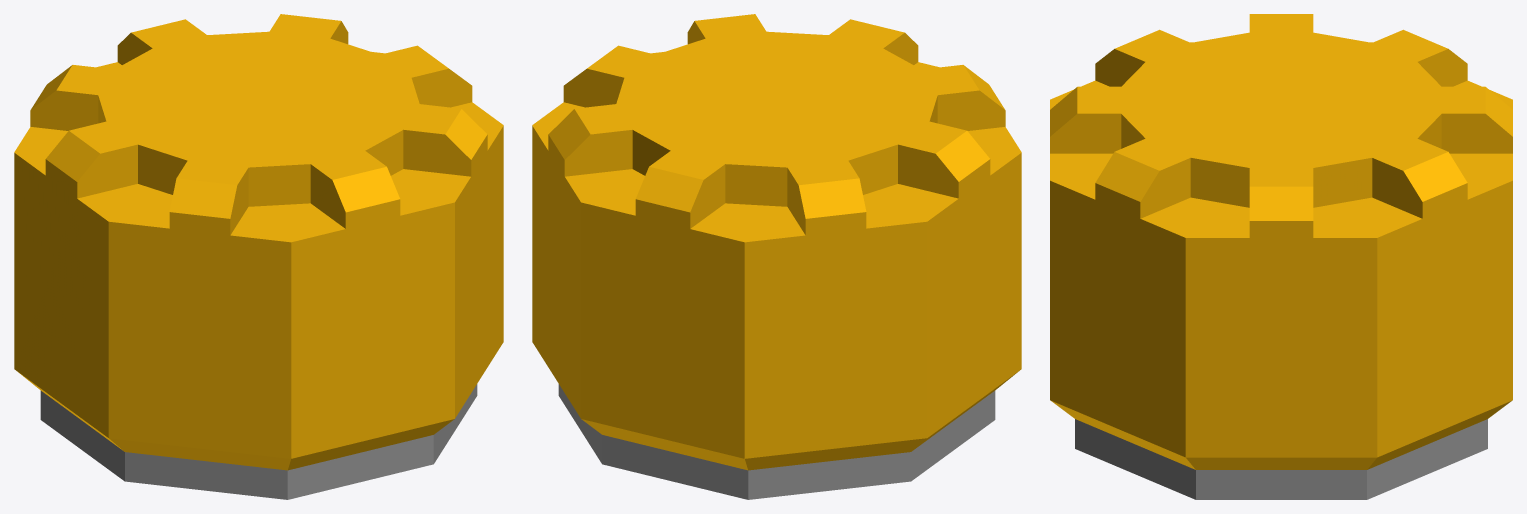
The model's file is epe_motor_mini.dae.
3 views of the same model, side by side, from view 1: azimuth 30°, elevation 25°; view 2: azimuth 150°, elevation 25°; view 3: azimuth 270°, elevation 25° (orthographic).
Parts seen in each view (by area): view 1: motor_mini; view 2: motor_mini; view 3: motor_mini.
Boxes of the visible parts, <box> form: motor_mini: <box>14,14,503,499</box>; motor_mini: <box>532,14,1021,499</box>; motor_mini: <box>1050,14,1512,499</box>.
Size of the model in its own units: 0.1401 by 0.1401 by 0.1043.
